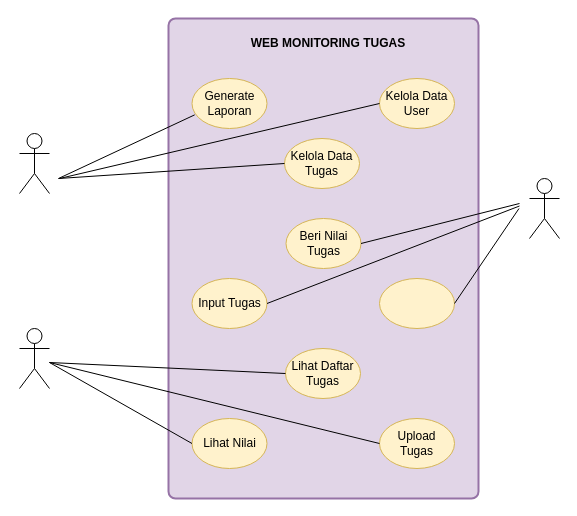
Some shapes in this 577 by 516 pixel diagram are drawn without their labels. The shapes that lost their labels are listed below. From the top down, each one's centre as x and y in pixels, then its label:
At (34,163): "Admin".
At (544,208): "Guru".
At (416,303): "Pantau Progres Siswa".
At (34,358): "Siswa".
